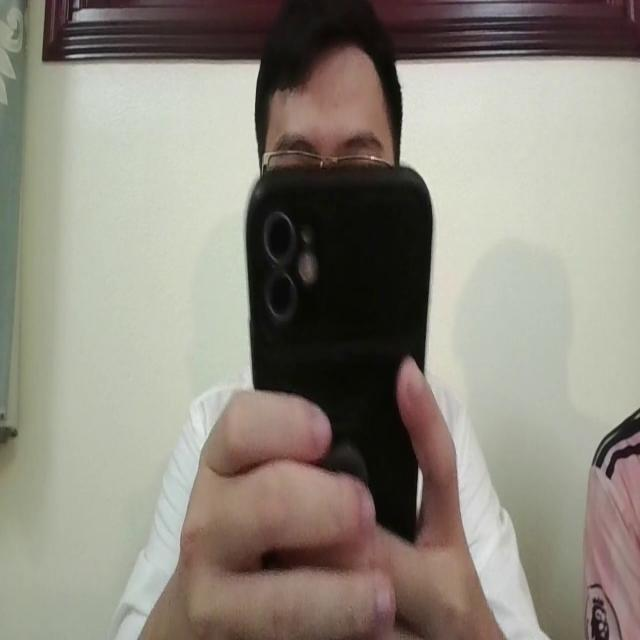phone: (242, 152, 433, 560)
student: (94, 0, 550, 640)
